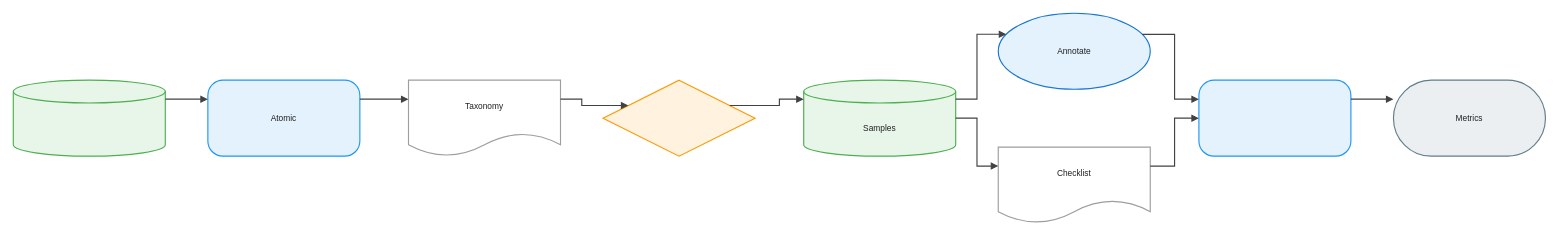
Some shapes in this 1560 by 237 pixel diagram are drawn without their labels. Here are the shapes that lost their labels. From the top down, the centre of each, then its label:
At point (89, 117): "Sources".
At point (678, 117): "Balance".
At point (1274, 117): "Judge".
